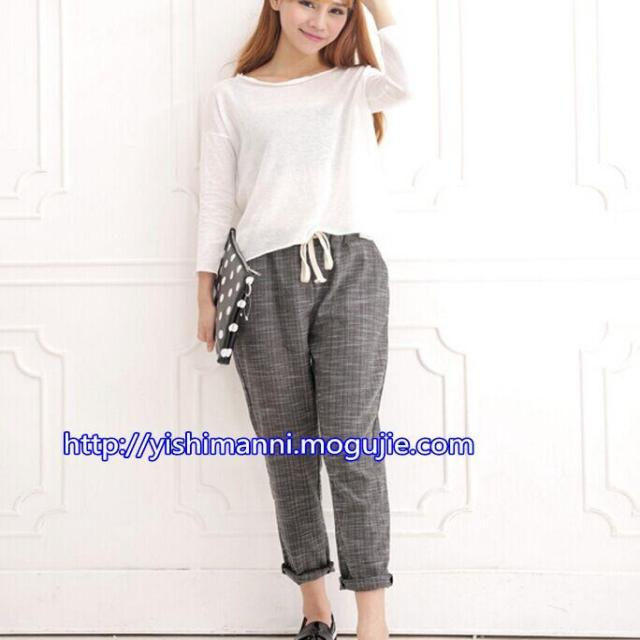long-sleeve-top: (178, 54, 453, 268)
trousers: (188, 283, 460, 584)
